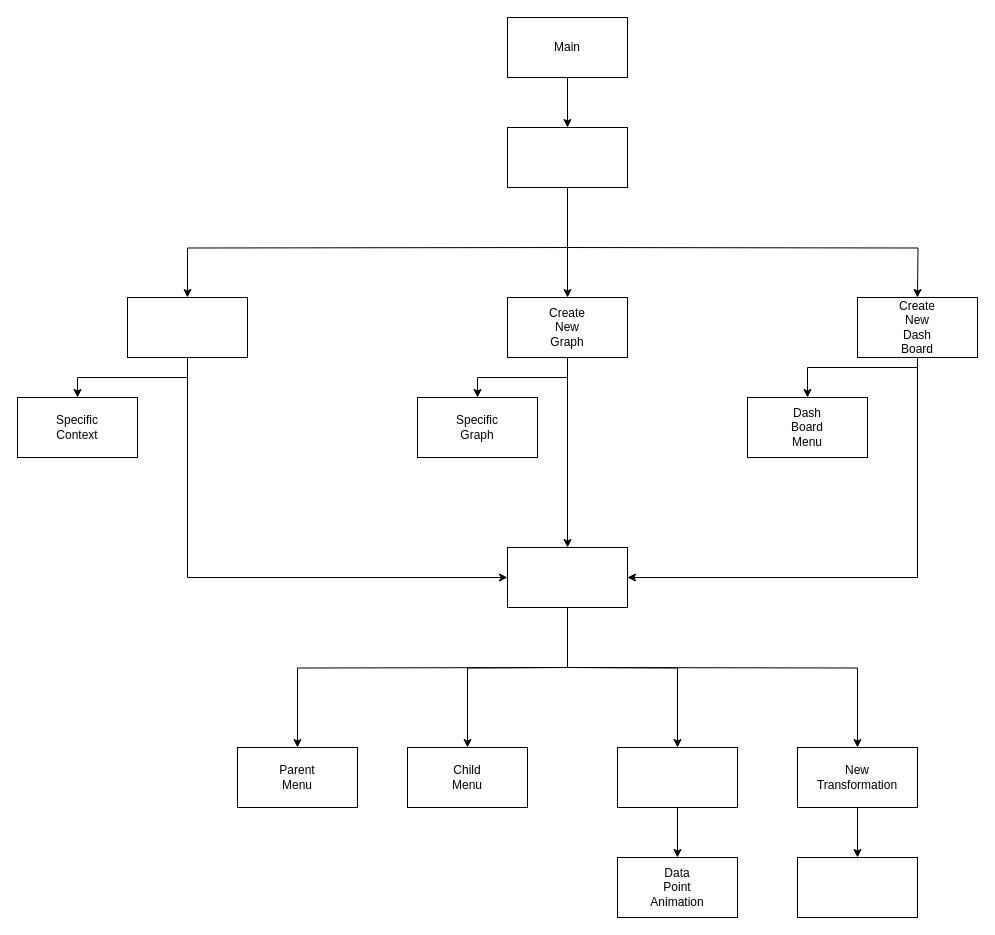
This 995x935 diagram has some shape labels left out. Here are the shapes that lost their labels. From the top down, the centre of each, then its label:
At pixel 567 157: "Create New Box".
At pixel 187 327: "Create New Context".
At pixel 567 577: "Context Menu".
At pixel 677 777: "Data Point Settings".
At pixel 857 887: "Animated Transformation".
